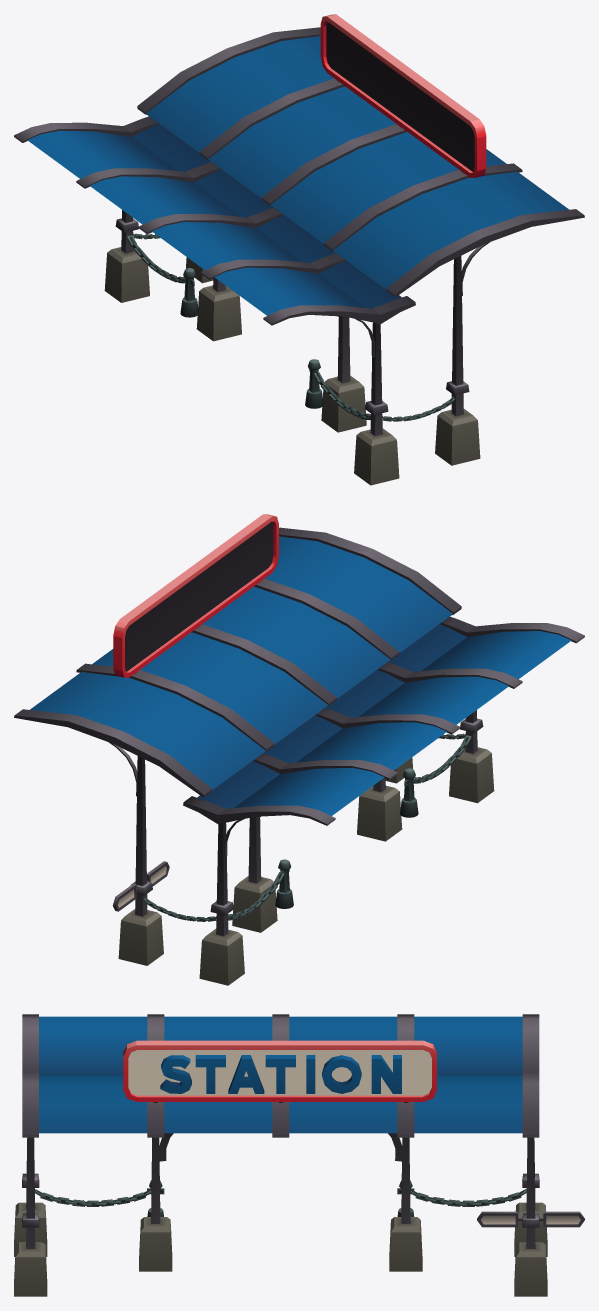
File: Train_Station_1A.fbx
The picture shows the model from 3 angles, top to bottom: view 1: azimuth 30°, elevation 25°; view 2: azimuth 150°, elevation 25°; view 3: azimuth 270°, elevation 25°; orthographic projection.
Parts seen in each view (by area): view 1: Train_Station_1A, Train_Station_1A_Addon; view 2: Train_Station_1A, Train_Station_1A_Addon; view 3: Train_Station_1A, Train_Station_1A_Addon.
Boxes of the visible parts, <box> form: Train_Station_1A: <box>14,14,584,485</box>; Train_Station_1A_Addon: <box>126,233,454,421</box>; Train_Station_1A: <box>14,514,584,985</box>; Train_Station_1A_Addon: <box>143,733,471,921</box>; Train_Station_1A: <box>14,1014,584,1296</box>; Train_Station_1A_Addon: <box>35,1180,526,1216</box>.
Bounding box in the file's own units: 11.61 × 9.92 × 18.26.
